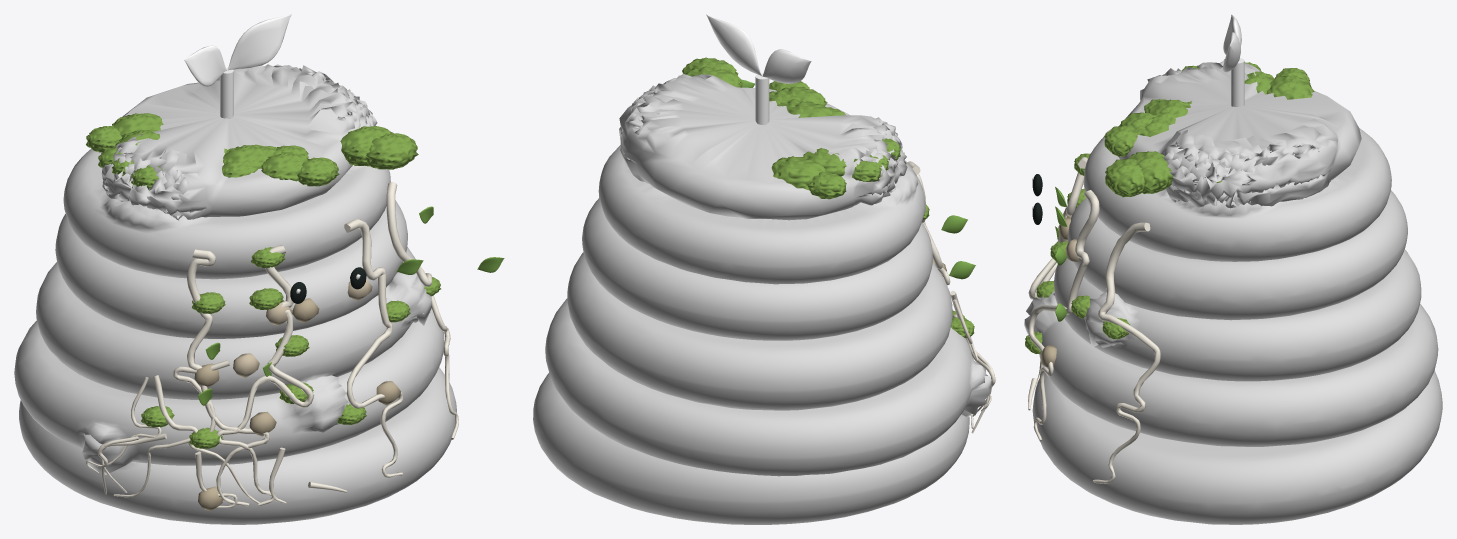
Rendered from tsuchi.glb.
3 views of the same model, side by side, from view 1: azimuth 30°, elevation 25°; view 2: azimuth 150°, elevation 25°; view 3: azimuth 270°, elevation 25° (orthographic).
Parts seen in each view (by area): view 1: Cylinder.005, Cylinder.001, Cylinder, Cylinder.002, Cylinder.004, Cylinder.003, c.009, c.010, c.003, Sphere.015, c.011, Icosphere.013 (+12 smaller); view 2: Cylinder.001, Cylinder.002, Cylinder.005, Cylinder, Cylinder.004, Cylinder.003, Sphere.015, Sphere.014, Icosphere.020, Icosphere.016, c.012, Icosphere (+1 smaller); view 3: Cylinder, Cylinder.001, Cylinder.005, Cylinder.002, Cylinder.003, Cylinder.004, c.011, c.010, Icosphere.013, Icosphere.023, c.009, Icosphere.020 (+3 smaller).
Boxes of the visible parts, x1,y1,x2,y2 form: Cylinder.005: [101, 64, 377, 220]; Cylinder.001: [14, 308, 444, 474]; Cylinder: [19, 367, 456, 524]; Cylinder.002: [36, 247, 431, 399]; Cylinder.004: [63, 148, 390, 279]; Cylinder.003: [55, 200, 407, 338]; c.009: [217, 245, 313, 505]; c.010: [344, 219, 402, 477]; c.003: [187, 249, 269, 506]; Sphere.015: [227, 14, 291, 70]; c.011: [386, 182, 458, 439]; Icosphere.013: [366, 133, 418, 169]; Cylinder.001: [545, 298, 991, 476]; Cylinder.002: [567, 252, 952, 410]; Cylinder.005: [619, 73, 907, 220]; Cylinder: [533, 373, 969, 524]; Cylinder.004: [598, 145, 925, 284]; Cylinder.003: [582, 198, 932, 340]; Sphere.015: [706, 14, 761, 75]; Sphere.014: [762, 49, 811, 83]; Icosphere.020: [771, 156, 826, 190]; Icosphere.016: [807, 171, 846, 199]; c.012: [755, 73, 769, 124]; Icosphere: [803, 148, 846, 176]; Cylinder: [1032, 371, 1442, 524]; Cylinder.001: [1024, 291, 1438, 446]; Cylinder.005: [1118, 59, 1361, 208]; Cylinder.002: [1053, 249, 1421, 381]; Cylinder.003: [1067, 190, 1407, 320]; Cylinder.004: [1083, 126, 1391, 261]; c.011: [1092, 222, 1160, 483]; c.010: [1028, 190, 1099, 441]; Icosphere.013: [1105, 159, 1146, 197]; Icosphere.023: [1130, 151, 1173, 193]; c.009: [1028, 157, 1087, 299]; Icosphere.020: [1266, 75, 1314, 99].
Bounding box in the file's own units: 1.05 × 1.1 × 0.9827.
